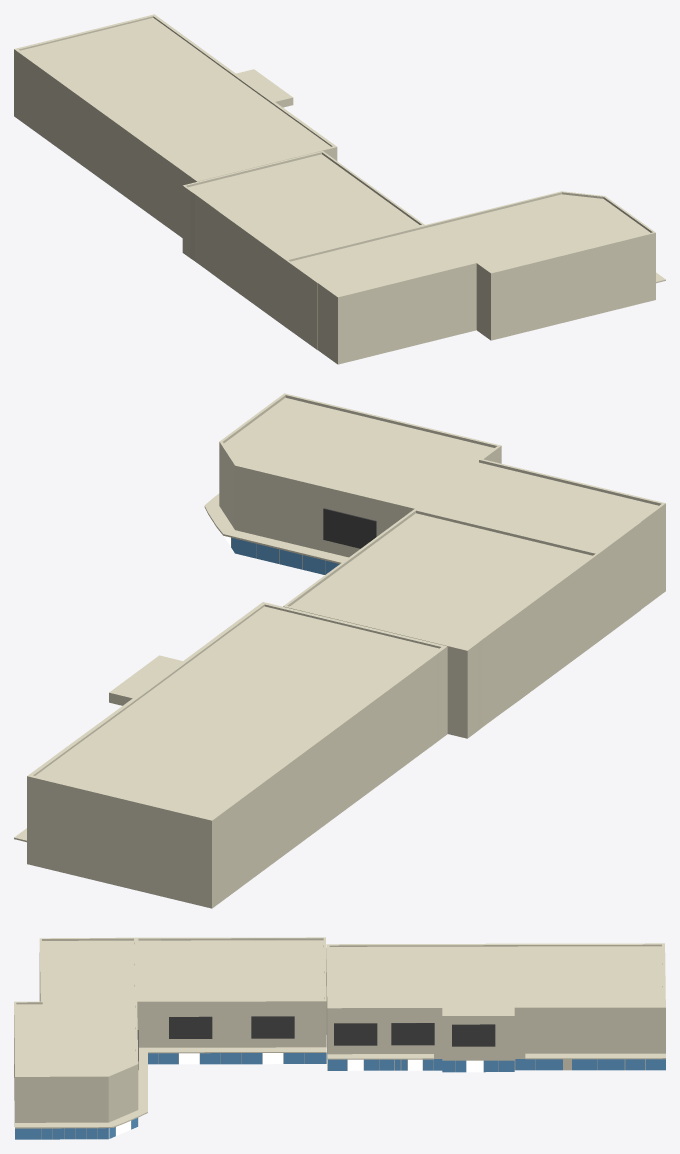
Rendered from plein1_sanders.glb.
The picture shows the model from 3 angles, top to bottom: view 1: azimuth 30°, elevation 25°; view 2: azimuth 150°, elevation 25°; view 3: azimuth 270°, elevation 25°; orthographic projection. The views are drawn at different scales.
Visible parts, largest first — view 1: 279815744; view 2: 279815744; view 3: 279815744.
Part boxes in pixels (x1,y1,x2,y2): 279815744: (14, 14, 665, 364); 279815744: (14, 393, 665, 908); 279815744: (14, 937, 665, 1139).
Bounding box in the file's own units: 256 × 52.03 × 490.
